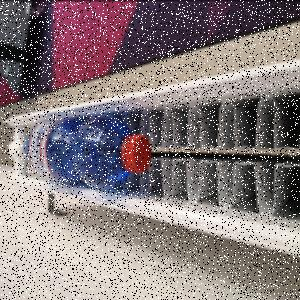Plastic-bottle: (24, 115, 154, 190)
